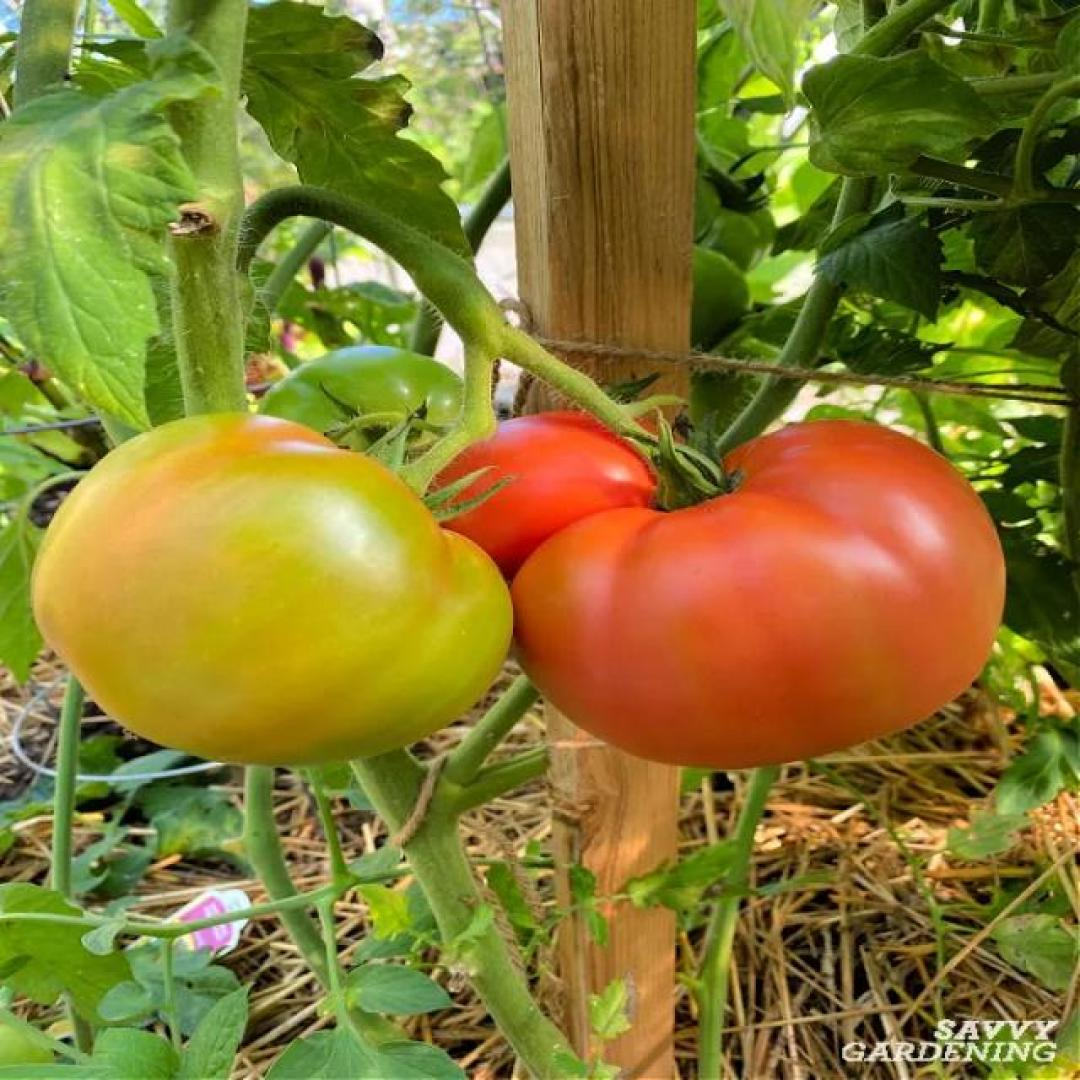matang: (504, 415, 1008, 770)
setengah_matang: (24, 405, 514, 768)
